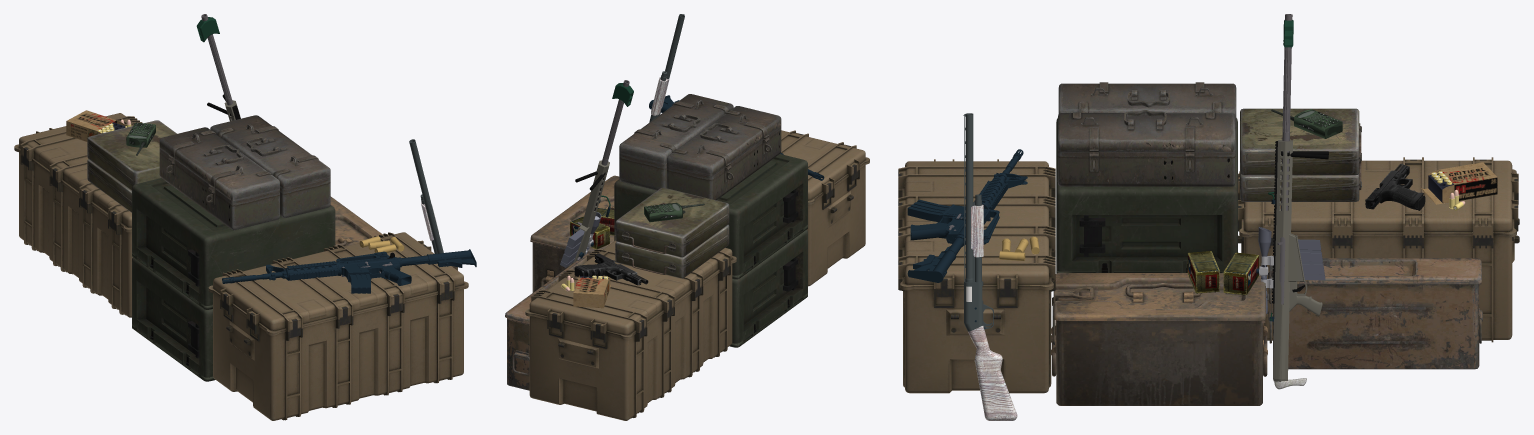
The model's file is GunBoxMix.fbx.
3 views of the same model, side by side, from view 1: azimuth 30°, elevation 25°; view 2: azimuth 150°, elevation 25°; view 3: azimuth 270°, elevation 25° (orthographic). The views are drawn at different scales.
Parts seen in each view (by area): view 1: GunBox; view 2: GunBox; view 3: GunBox.
Part boxes in pixels (x1,y1,x2,y2): GunBox: (14, 14, 476, 420); GunBox: (505, 14, 869, 420); GunBox: (898, 14, 1519, 420).
Size of the model in its own units: 500 by 573 by 971.
